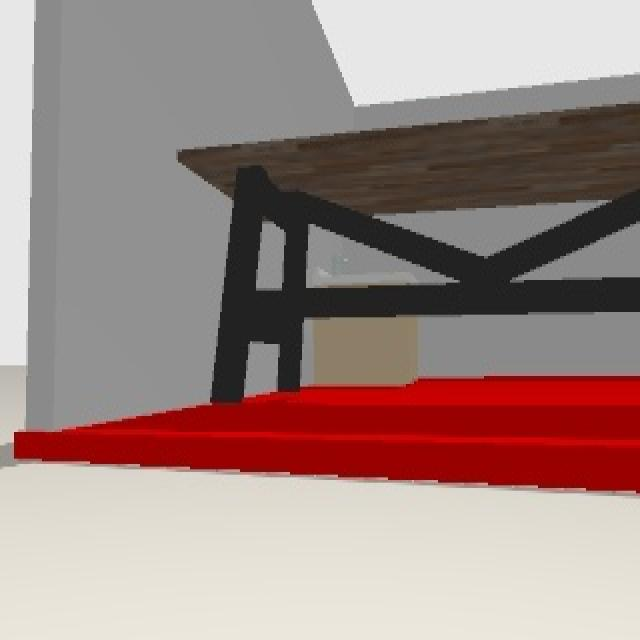dining: (174, 102, 640, 406)
